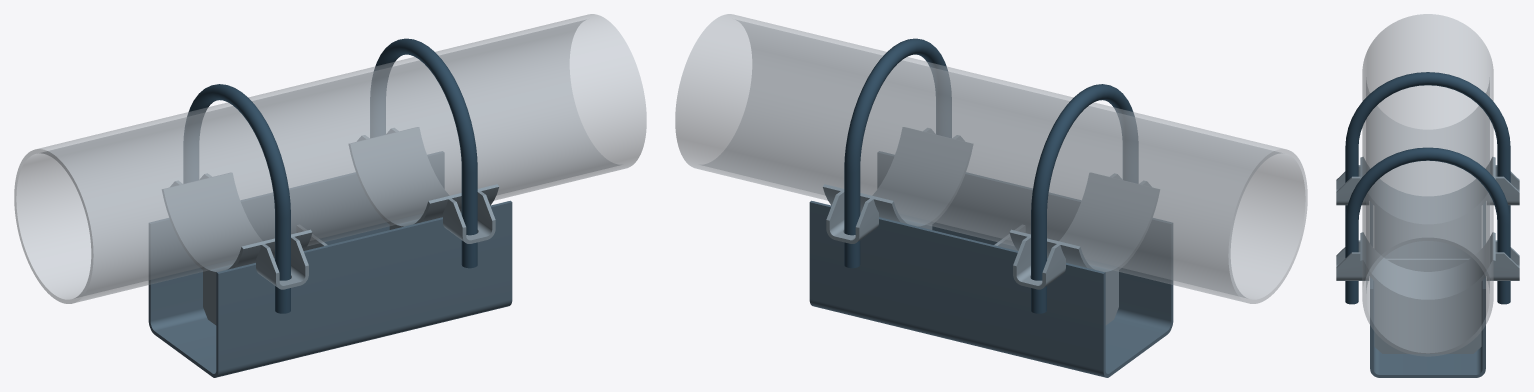
Rendered from TS-733.00.00.01-opora-dn159-L340.glb.
The picture shows the model from 3 angles, left to right: view 1: azimuth 30°, elevation 25°; view 2: azimuth 150°, elevation 25°; view 3: azimuth 270°, elevation 25°; orthographic projection. The views are drawn at different scales.
Parts seen in each view (by area): view 1: truba, skoba_0, podushka_4, podushka_5, homut_1, homut_0, ushko_9, ushko_7, rebro4_1; view 2: truba, skoba_0, podushka_4, podushka_5, homut_1, homut_0, ushko_8, ushko_6, rebro4_1; view 3: truba, rebro4_2, homut_1, podushka_5, homut_0, rebro4_1, skoba_0, podushka_4, ushko_8, ushko_9, rebro5_3, ushko_6 (+1 smaller).
Part boxes in pixels (x1,y1,x2,y2): truba: [14, 14, 646, 303]; skoba_0: [148, 151, 512, 377]; podushka_4: [162, 173, 312, 275]; podushka_5: [349, 127, 498, 228]; homut_1: [370, 38, 477, 268]; homut_0: [183, 84, 290, 313]; ushko_9: [443, 191, 495, 243]; ushko_7: [256, 237, 308, 289]; rebro4_1: [203, 270, 216, 325]; truba: [675, 14, 1307, 303]; skoba_0: [809, 151, 1173, 377]; podushka_4: [1009, 173, 1159, 275]; podushka_5: [823, 127, 972, 228]; homut_1: [844, 38, 951, 268]; homut_0: [1031, 84, 1138, 313]; ushko_8: [826, 191, 878, 243]; ushko_6: [1013, 237, 1065, 289]; rebro4_1: [1105, 270, 1118, 325]; truba: [1362, 14, 1493, 356]; rebro4_2: [1374, 282, 1481, 353]; homut_1: [1345, 147, 1510, 304]; podushka_5: [1360, 232, 1495, 302]; homut_0: [1345, 72, 1510, 220]; rebro4_1: [1374, 207, 1481, 258]; skoba_0: [1370, 202, 1485, 377]; podushka_4: [1360, 157, 1495, 226]; ushko_8: [1486, 240, 1519, 280]; ushko_9: [1336, 240, 1369, 280]; rebro5_3: [1386, 258, 1469, 271]; ushko_6: [1487, 165, 1519, 205].
Bounding box in the file's own units: 640 × 278 × 222.
